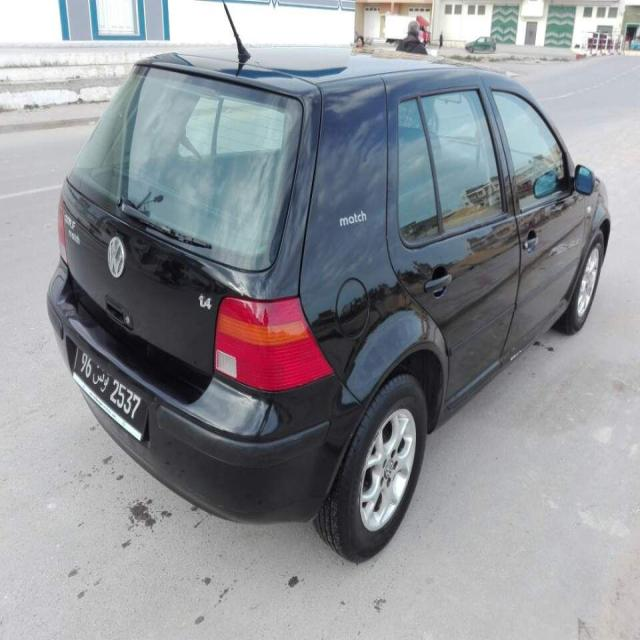LP: (72, 339, 145, 441)
